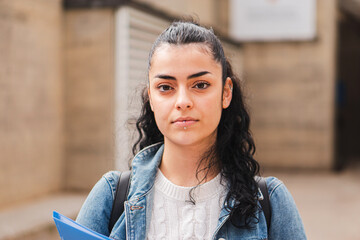teen: (144, 22, 249, 164)
